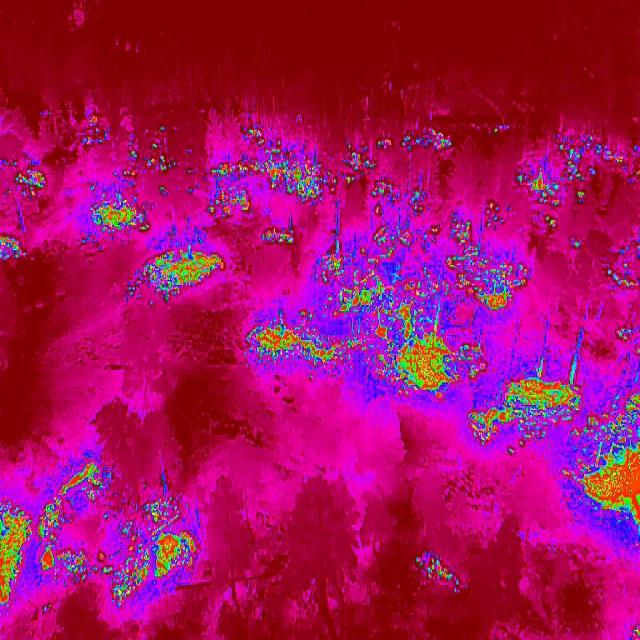fire: (35, 458, 152, 604), (208, 122, 340, 246), (433, 196, 531, 318), (316, 223, 426, 327), (563, 391, 640, 539), (369, 305, 487, 401), (468, 366, 584, 450), (240, 308, 370, 377), (78, 170, 152, 252), (128, 244, 225, 304), (562, 131, 640, 204), (123, 126, 194, 193), (152, 492, 198, 586), (516, 152, 568, 233), (362, 174, 432, 224), (0, 501, 31, 611), (378, 126, 464, 162), (606, 237, 640, 298), (415, 551, 462, 593), (338, 140, 380, 184), (77, 115, 121, 155), (12, 160, 48, 204), (0, 231, 28, 267), (611, 320, 640, 352), (571, 237, 585, 256), (629, 622, 640, 638)
